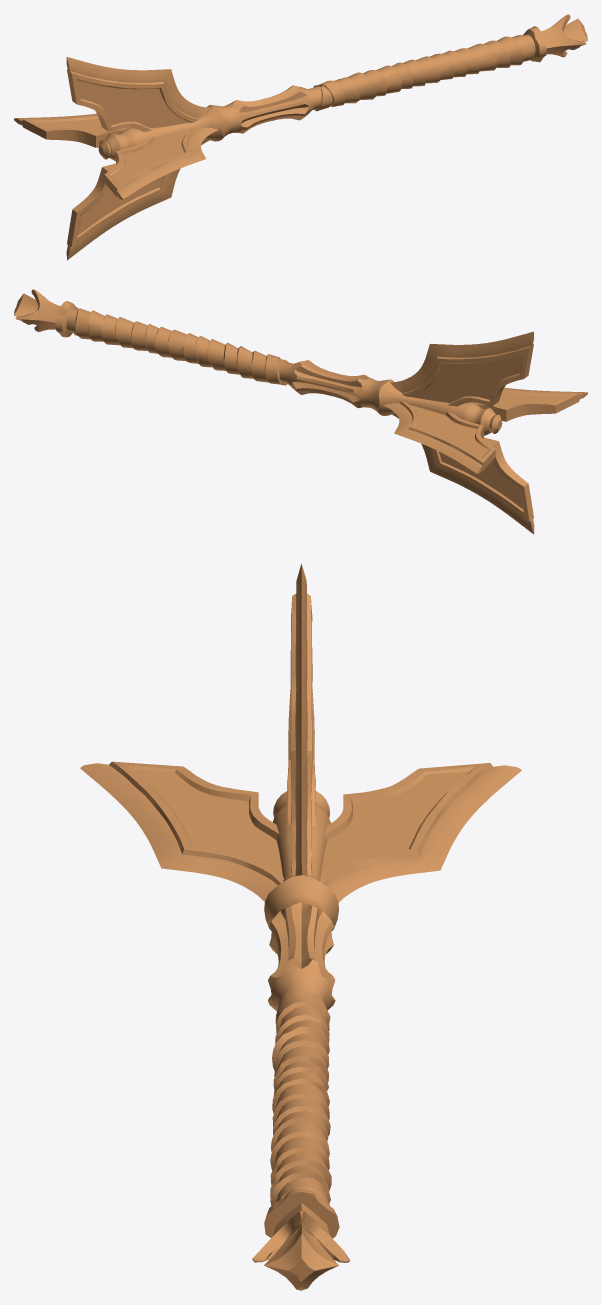
File: SM_Rune_Mace_3.fbx
3 views of the same model, one above another, from view 1: azimuth 30°, elevation 25°; view 2: azimuth 150°, elevation 25°; view 3: azimuth 270°, elevation 25° (orthographic). The views are drawn at different scales.
Visible parts, largest first — view 1: SM_Rune_Mace_3; view 2: SM_Rune_Mace_3; view 3: SM_Rune_Mace_3.
Part boxes in pixels (x1=…): SM_Rune_Mace_3: x1=14, y1=14, x2=587, y2=260; SM_Rune_Mace_3: x1=14, y1=289, x2=587, y2=534; SM_Rune_Mace_3: x1=80, y1=563, x2=521, y2=1290.
Size of the model in its own units: 1.05 by 0.3958 by 0.3901.
